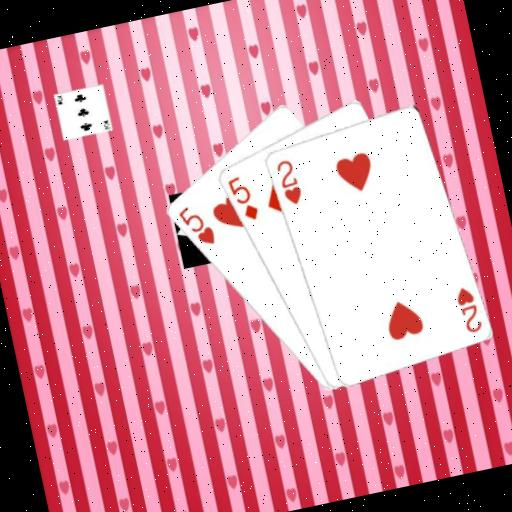2H: (270, 154, 304, 209), (450, 282, 484, 336)
5D: (223, 170, 261, 225)
5H: (173, 198, 217, 251)
